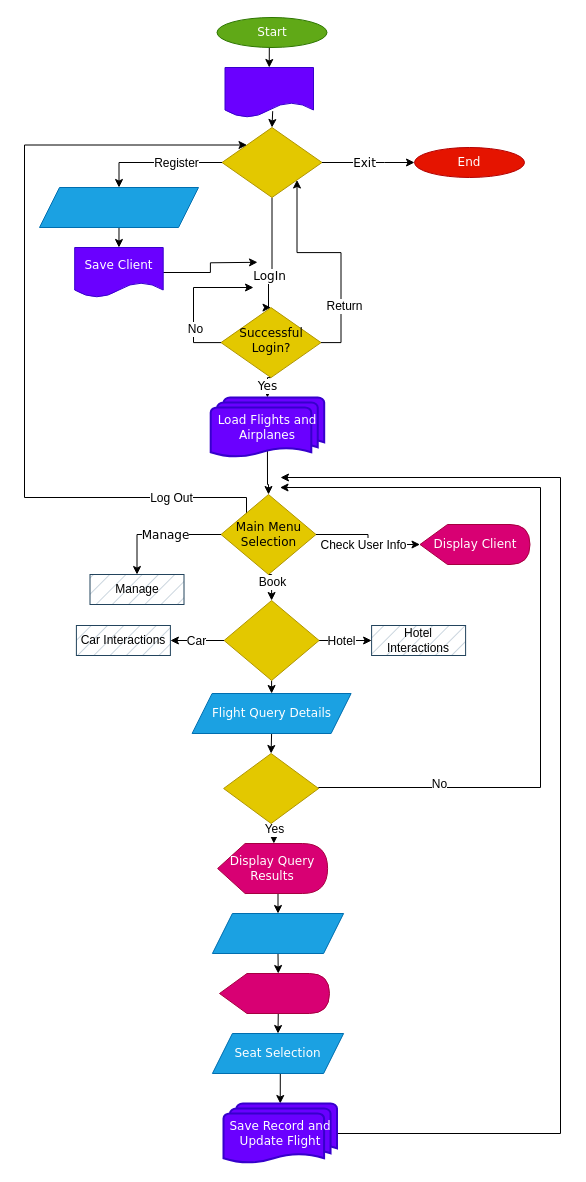
Some shapes in this 586 by 1182 pixel diagram are drawn without their labels. Here are the shapes that lost their labels. From the top down, the centre of each, then its label:
(x=269, y=92): Load Clients
(x=271, y=162): LogIn/Register
(x=118, y=207): Input Client Data
(x=271, y=640): Inventory Selection
(x=271, y=788): Flights Found?
(x=277, y=933): Flight Selection
(x=274, y=993): Display Seats
